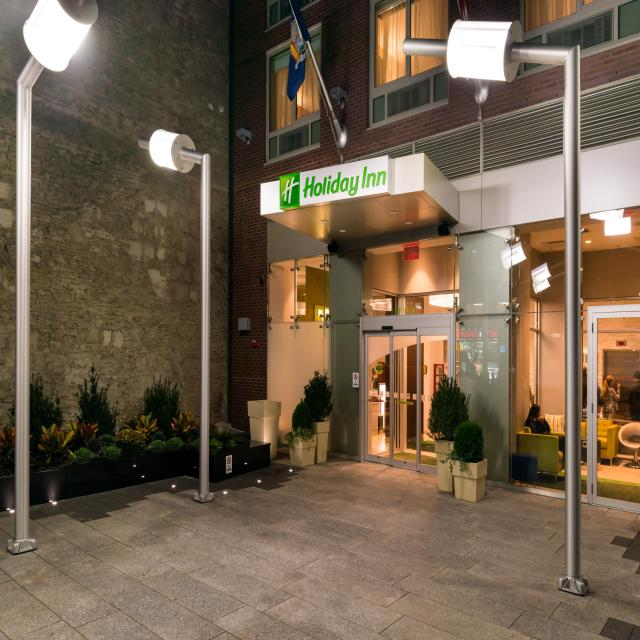body: (524, 404, 565, 476), (600, 374, 622, 419), (625, 371, 640, 422), (582, 396, 600, 419), (582, 365, 588, 408)
